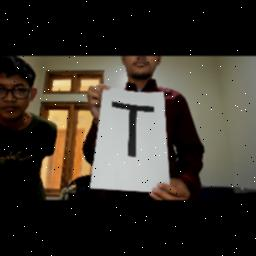t: (107, 100, 163, 160)
